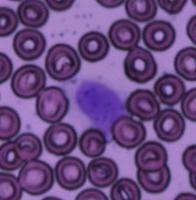L: (74, 76, 128, 130)
